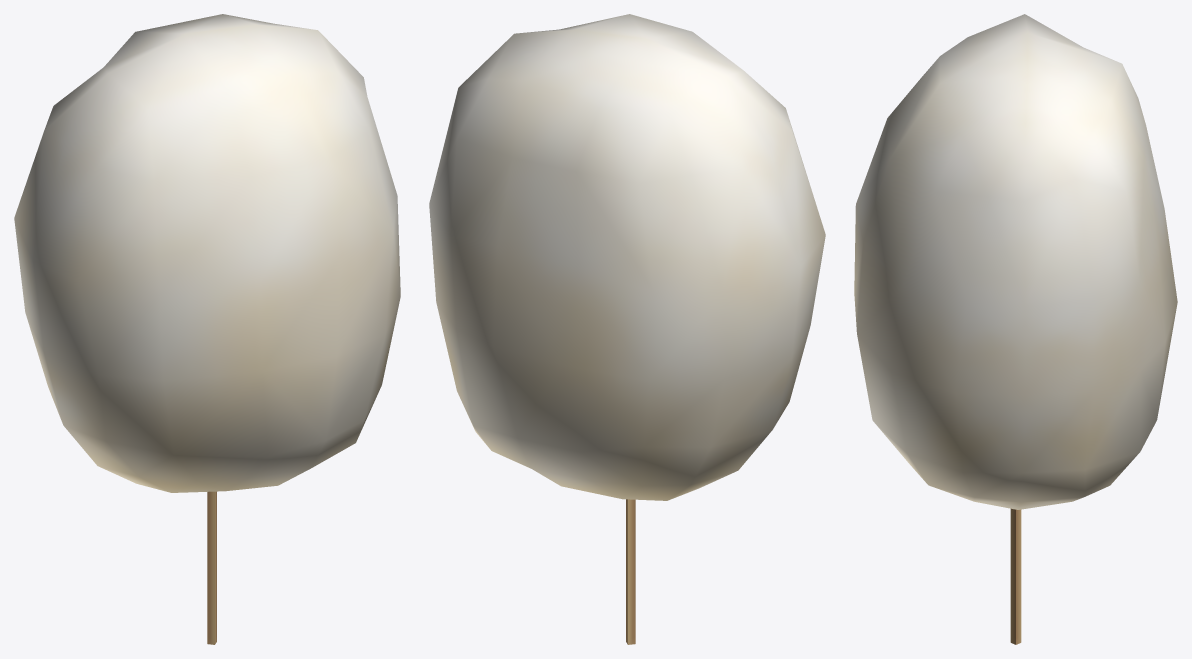
Rendered from jsf_CottonCandy_01L.fbx.
The picture shows the model from 3 angles, left to right: view 1: azimuth 30°, elevation 25°; view 2: azimuth 150°, elevation 25°; view 3: azimuth 270°, elevation 25°; orthographic projection. The views are drawn at different scales.
Visible parts, largest first — view 1: jsf_CottonCandy_01L; view 2: jsf_CottonCandy_01L; view 3: jsf_CottonCandy_01L.
Part boxes in pixels (x1,y1,x2,y2): jsf_CottonCandy_01L: (14, 14, 400, 644); jsf_CottonCandy_01L: (429, 14, 825, 644); jsf_CottonCandy_01L: (854, 14, 1177, 644).
Bounding box in the file's own units: 25.91 × 43.4 × 21.21.
